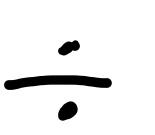div: (2, 38, 110, 124)
